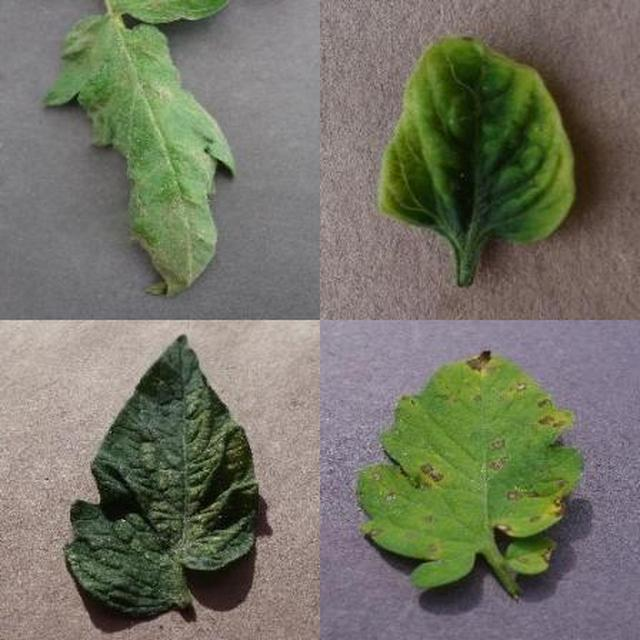Late Blight Leaf: (194, 202, 640, 640)
